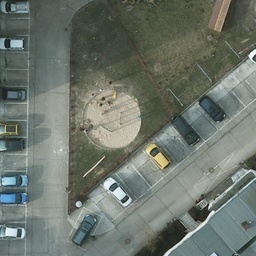car: (169, 113, 203, 147), (142, 140, 176, 174), (103, 176, 132, 208), (72, 216, 98, 245), (200, 95, 226, 123), (0, 223, 26, 241), (0, 1, 30, 16), (0, 139, 28, 154), (0, 191, 28, 205), (0, 174, 28, 188), (0, 35, 26, 50), (1, 89, 26, 103), (0, 124, 20, 136)
